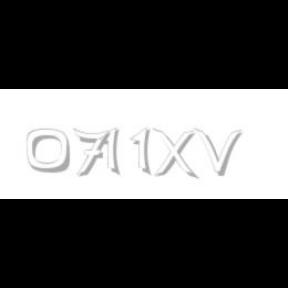1: (99, 128, 121, 176), (130, 128, 152, 176)
7: (74, 128, 110, 178)
O: (26, 128, 72, 174)
V: (194, 128, 242, 176)
X: (152, 128, 196, 180)
